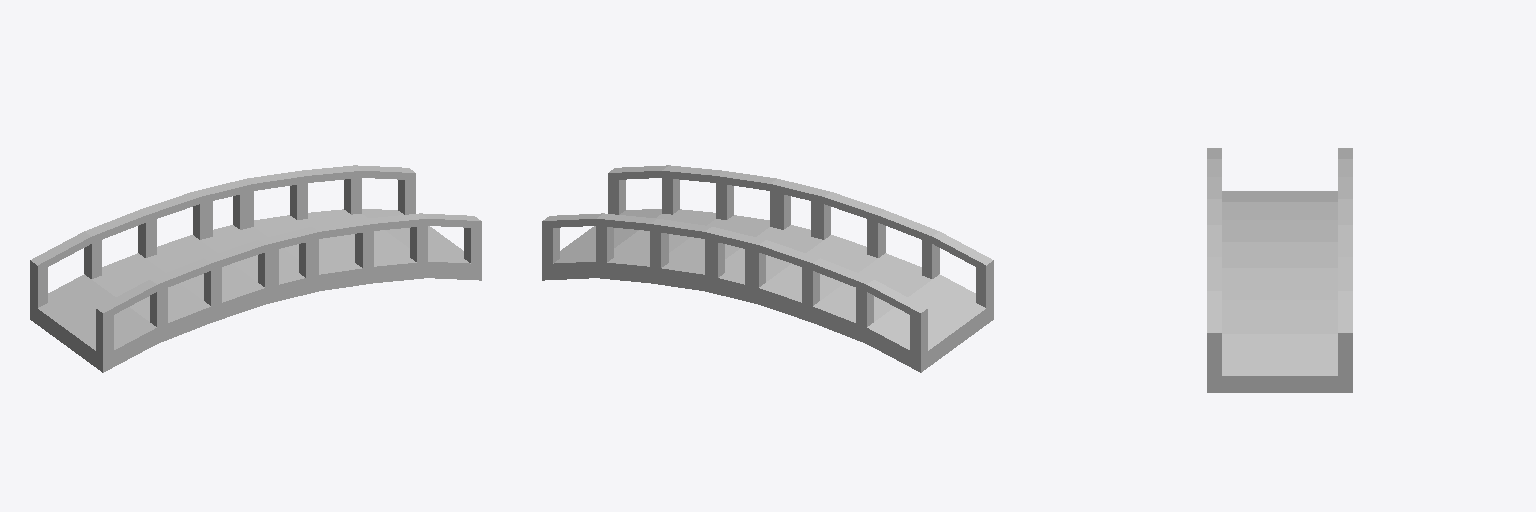
The model's file is bridge.obj.
3 views of the same model, side by side, from view 1: azimuth 30°, elevation 25°; view 2: azimuth 150°, elevation 25°; view 3: azimuth 270°, elevation 25° (orthographic).
Visible parts, largest first — view 1: bridge; view 2: bridge; view 3: bridge.
Part boxes in pixels (left/top/right/bottom): bridge: left=30, top=165, right=481, bottom=372; bridge: left=542, top=165, right=993, bottom=372; bridge: left=1207, top=148, right=1352, bottom=392.
Bounding box in the file's own units: 6 × 1.34 × 2.